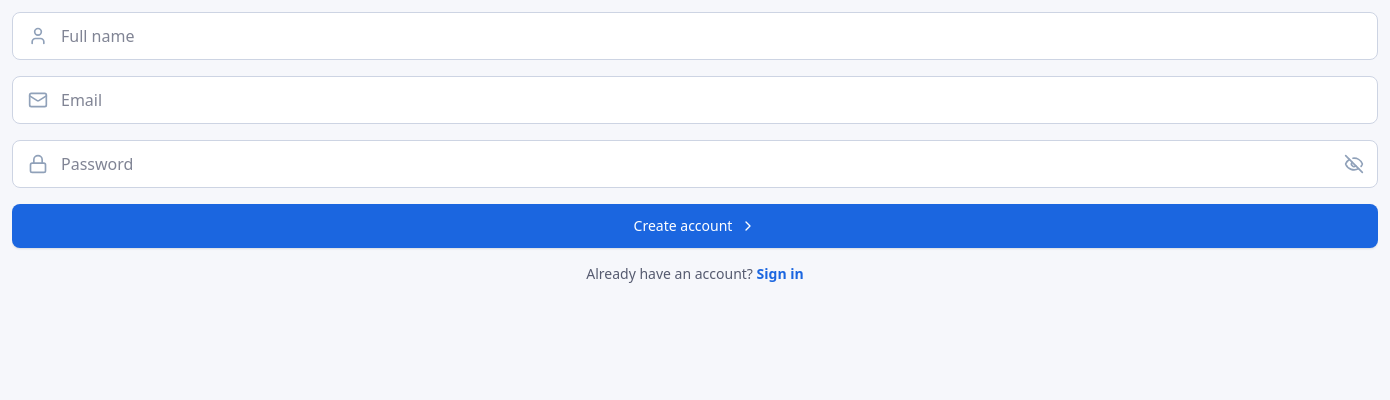
Test: signing up with an email that already has an account › a brand-new account still gets the confirmation notice
The image size is (1390, 400).
Type "New Person" into the field with placeholder "Full name" at (695, 36), box [12,12,1378,60]
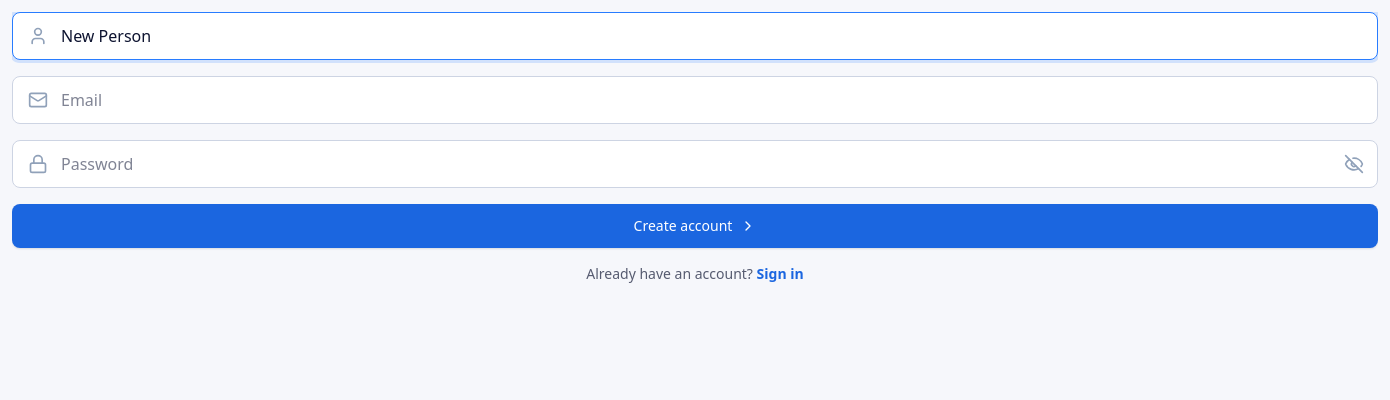
Type "new@pizza.test" into the field with placeholder "Email" at (695, 100), box [12,76,1378,124]
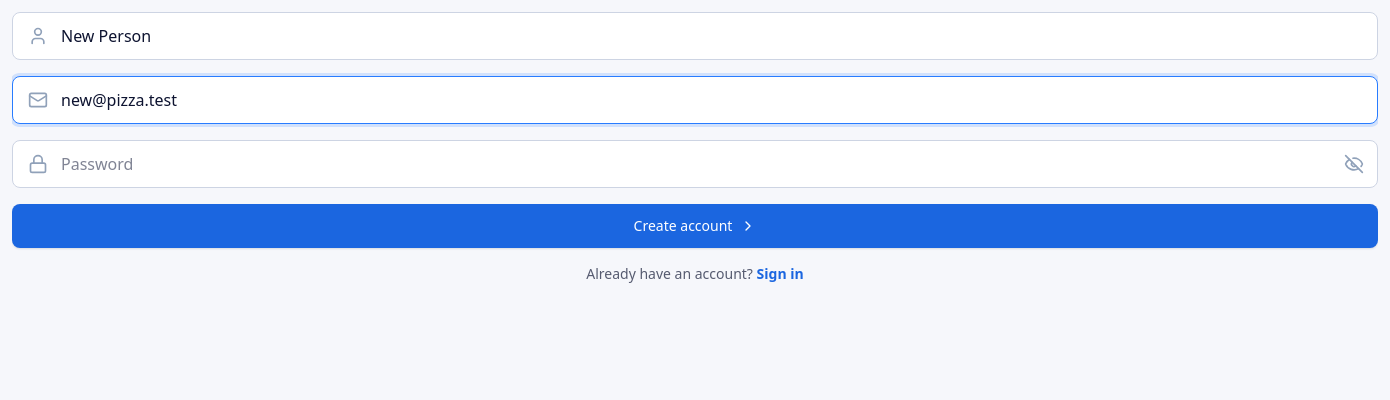
Type "correct-horse-battery" into the password field with placeholder "Password" at (695, 164), box [12,140,1378,188]
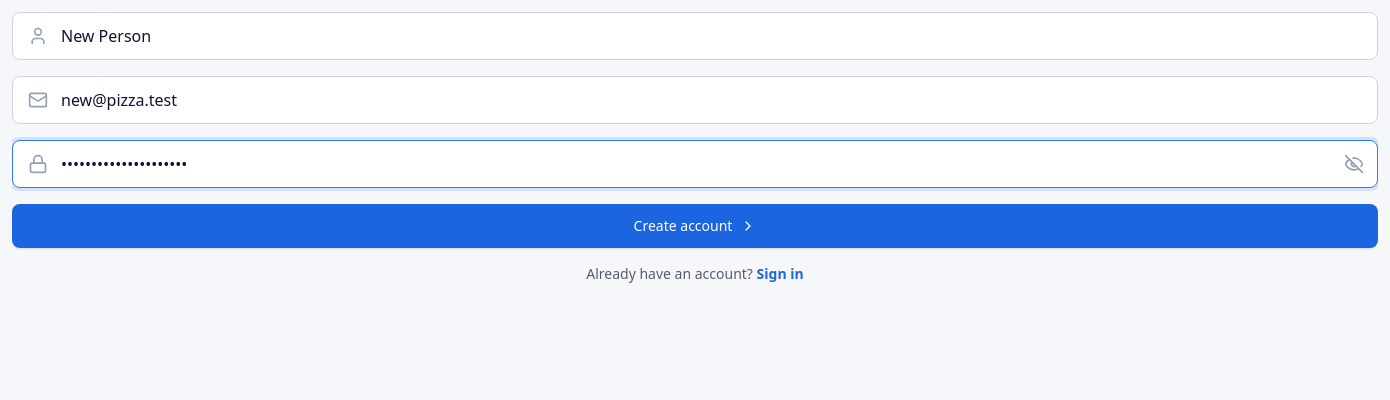
Click the button "Create account" at (695, 226), box [12,204,1378,248]
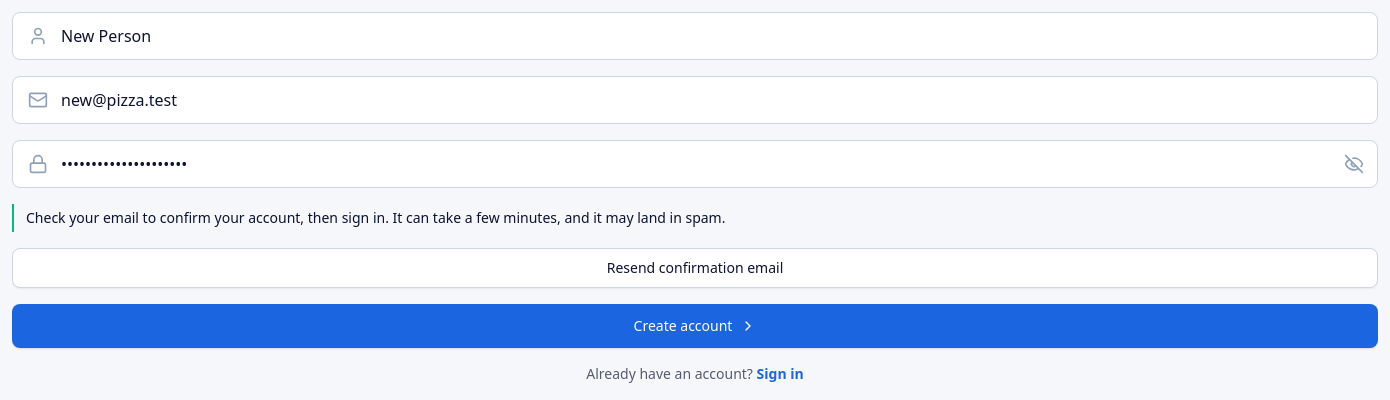
Expected: the text "Check your email to confirm" is shown, [26,208,726,227]
